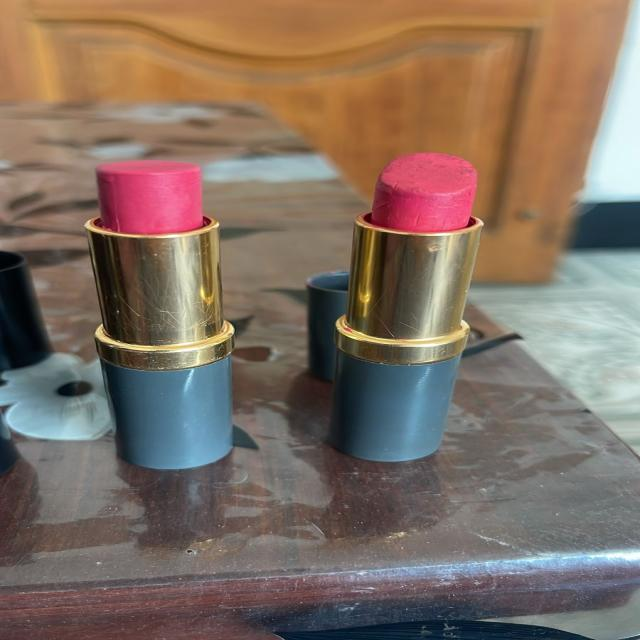lip stick: (292, 134, 524, 468), (76, 147, 268, 483)
